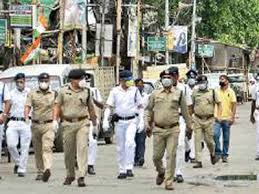mask: (157, 68, 176, 91), (38, 73, 53, 92), (119, 69, 133, 89), (72, 71, 87, 88), (13, 73, 26, 92), (198, 74, 210, 94), (185, 71, 196, 88), (217, 73, 228, 89)
